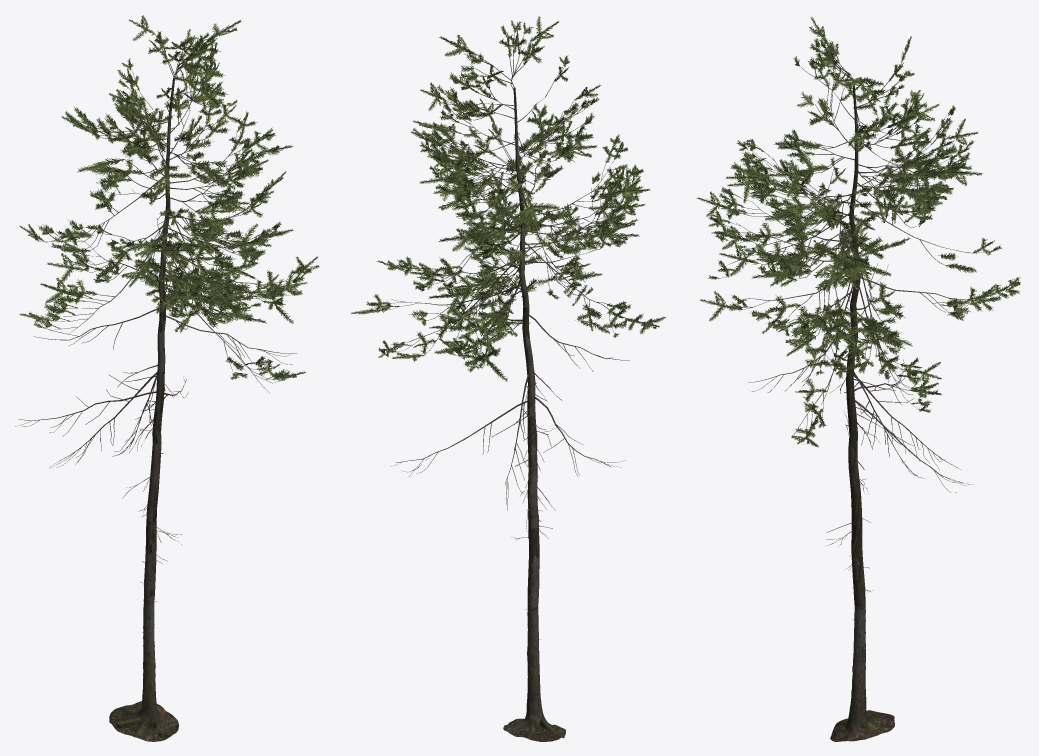
Rendered from fir-2-near.glb.
The picture shows the model from 3 angles, left to right: view 1: azimuth 30°, elevation 25°; view 2: azimuth 150°, elevation 25°; view 3: azimuth 270°, elevation 25°; orthographic projection. The views are drawn at different scales.
Parts seen in each view (by area): view 1: fir_2_near; view 2: fir_2_near; view 3: fir_2_near.
Boxes of the visible parts, x1=… form: fir_2_near: x1=15, y1=15, x2=319, y2=741; fir_2_near: x1=351, y1=16, x2=665, y2=741; fir_2_near: x1=696, y1=17, x2=1020, y2=741.
Size of the model in its own units: 6.98 by 16 by 6.6.
3 materials, 3 textured.
